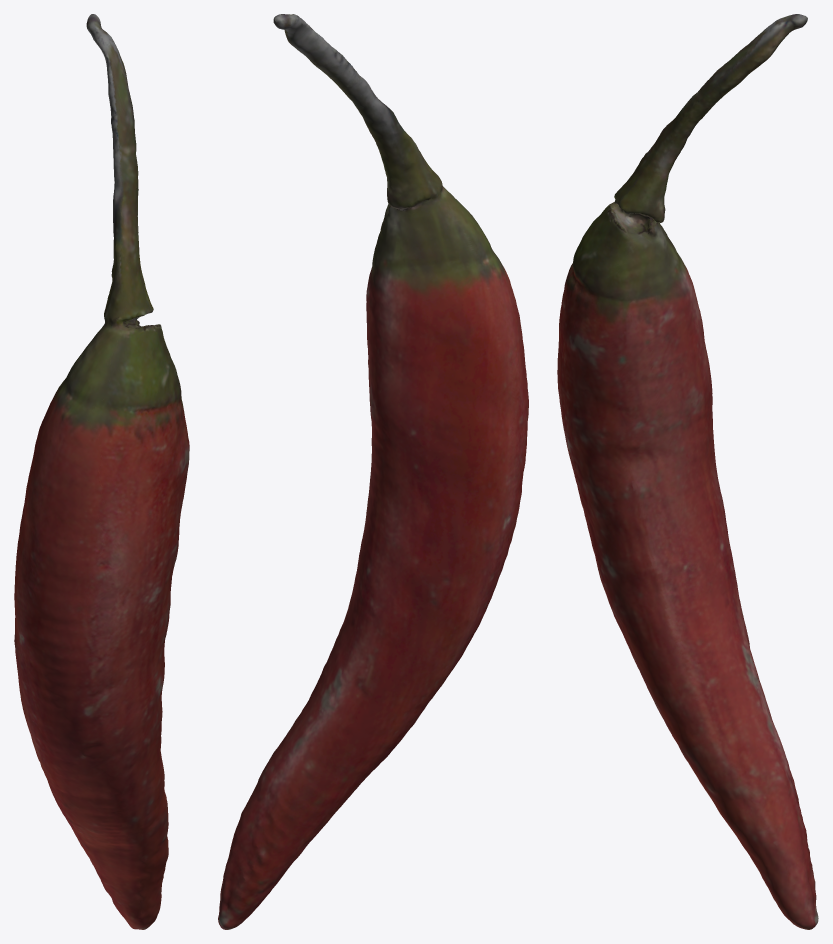
The model's file is chili_pepper_nhmw-afw-ding-0046-069.glb.
3 renders of one model, left to right at view 1: azimuth 30°, elevation 25°; view 2: azimuth 150°, elevation 25°; view 3: azimuth 270°, elevation 25°, orthographic. The views are drawn at different scales.
Visible parts, largest first — view 1: Object_2; view 2: Object_2; view 3: Object_2.
Boxes of the visible parts, left/top/right/bottom form: Object_2: left=14, top=14, right=189, bottom=929; Object_2: left=218, top=14, right=528, bottom=929; Object_2: left=557, top=14, right=818, bottom=929.
Size of the model in its own units: 18.4 by 76.26 by 20.25.
1 material, 1 textured.
